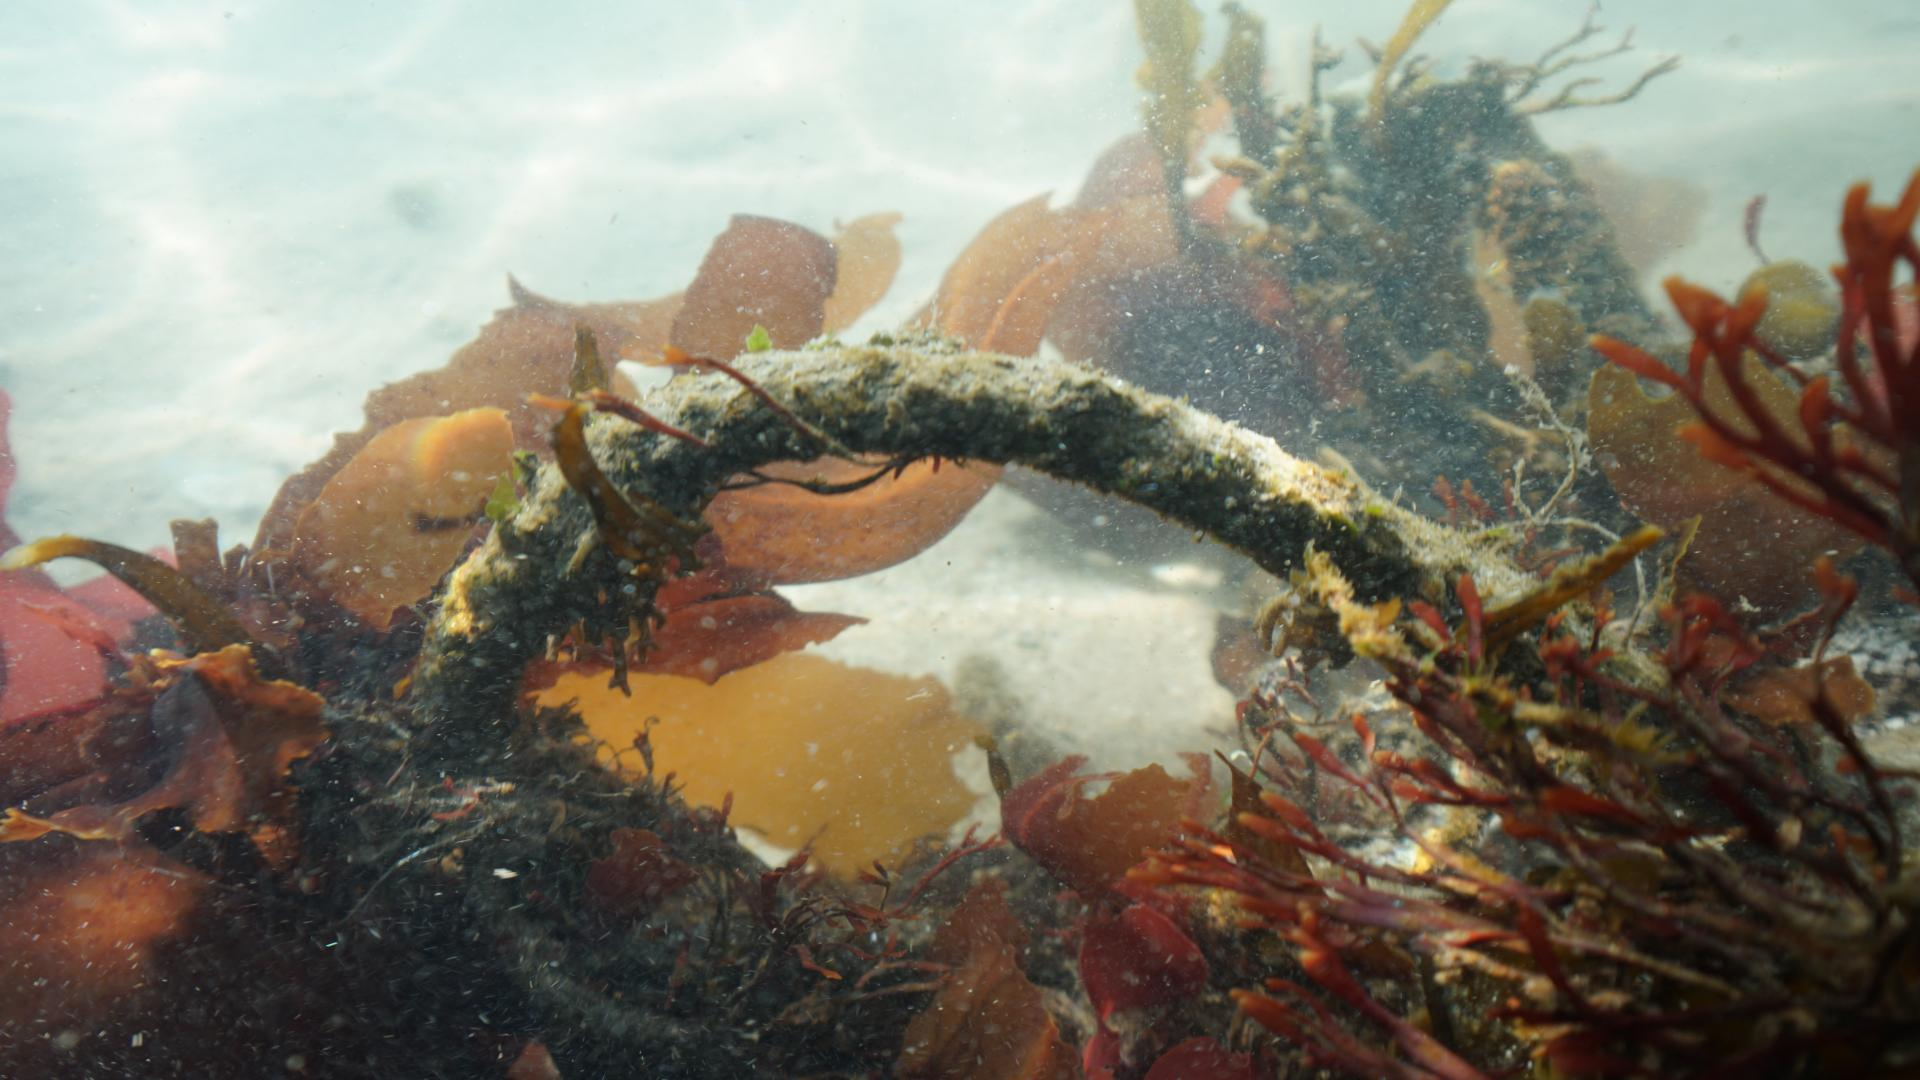rope: (389, 334, 1783, 735)
